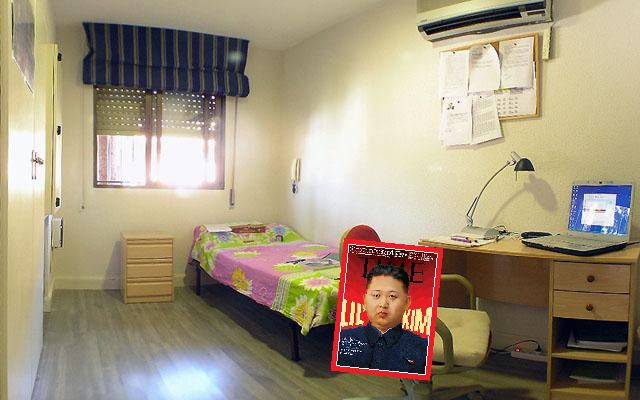times: (329, 233, 449, 382)
